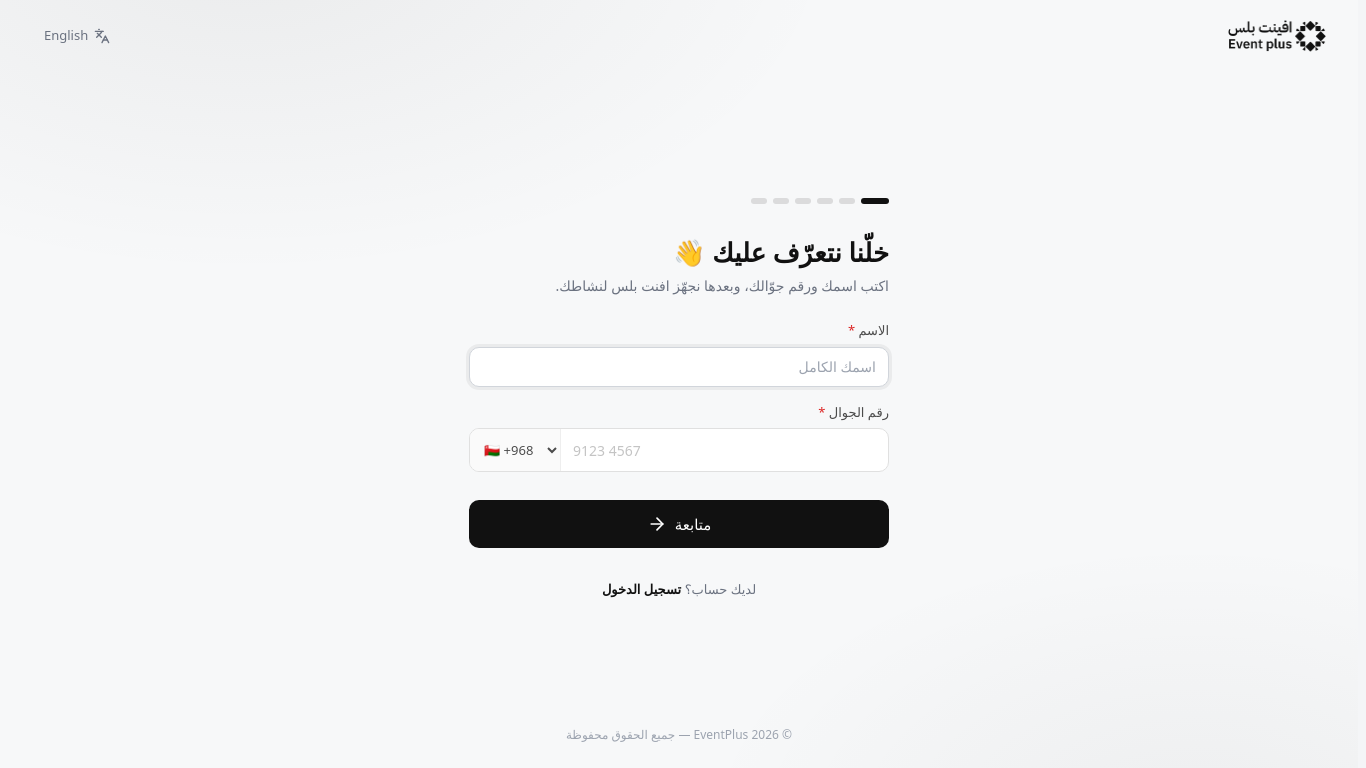
Test: معالج التسجيل › يبدأ بالتعريف بالمستخدم، ولا يمضي بحقلٍ ناقص
Expected: the heading "خلّنا نتعرّف عليك 👋" is shown, [673,234,889,270]
Click the button "متابعة": (679, 524) [469,500,889,548]
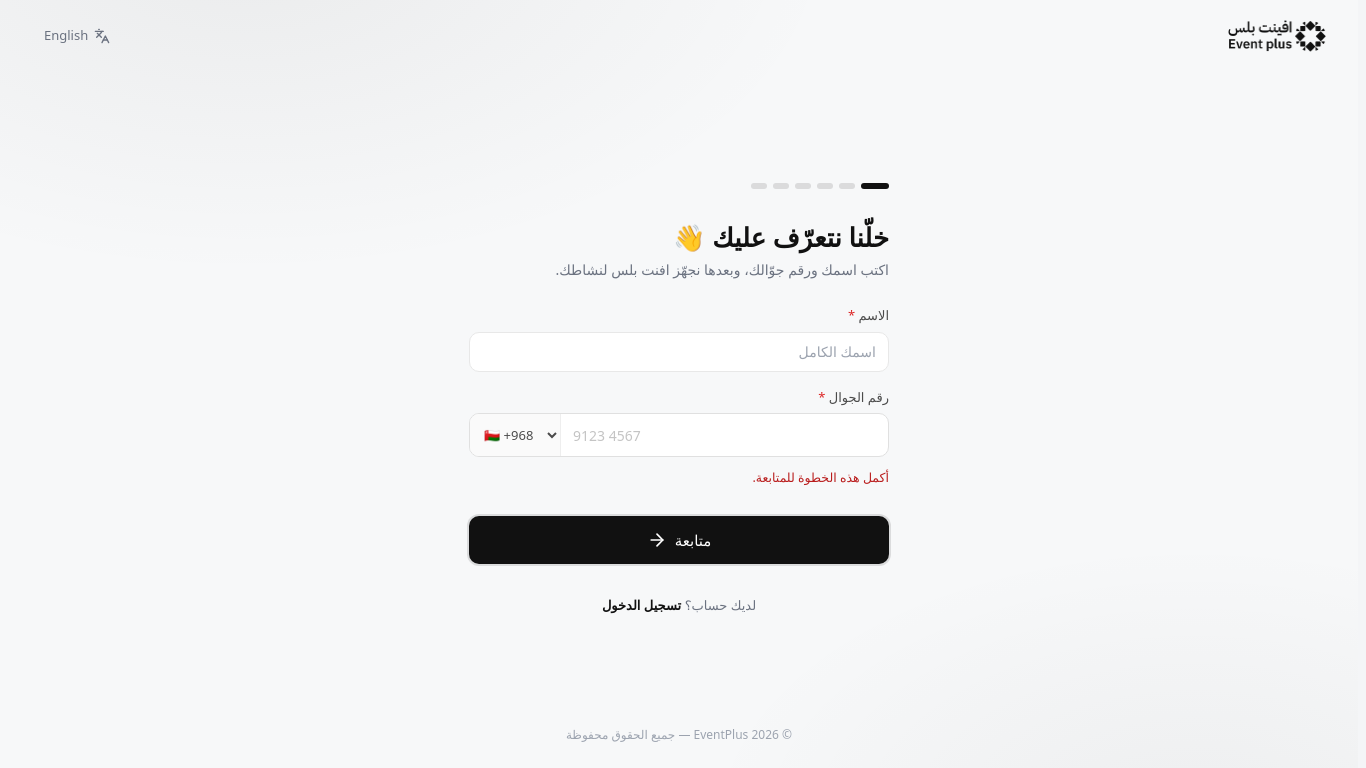
Expected: the heading "خلّنا نتعرّف عليك 👋" is shown, [673,219,889,255]
Expected: the message reads "أكمل هذه الخطوة للمتابعة.", [752,469,889,486]
